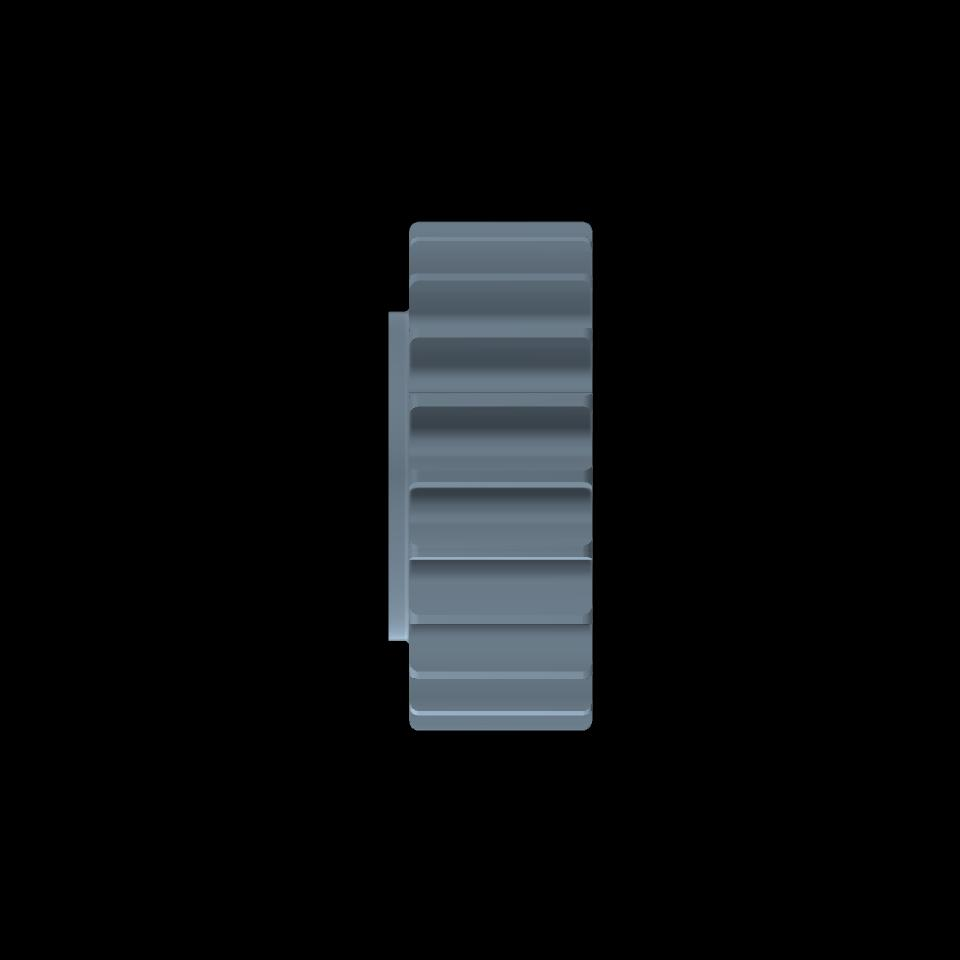Straight: (418, 222, 583, 730)
